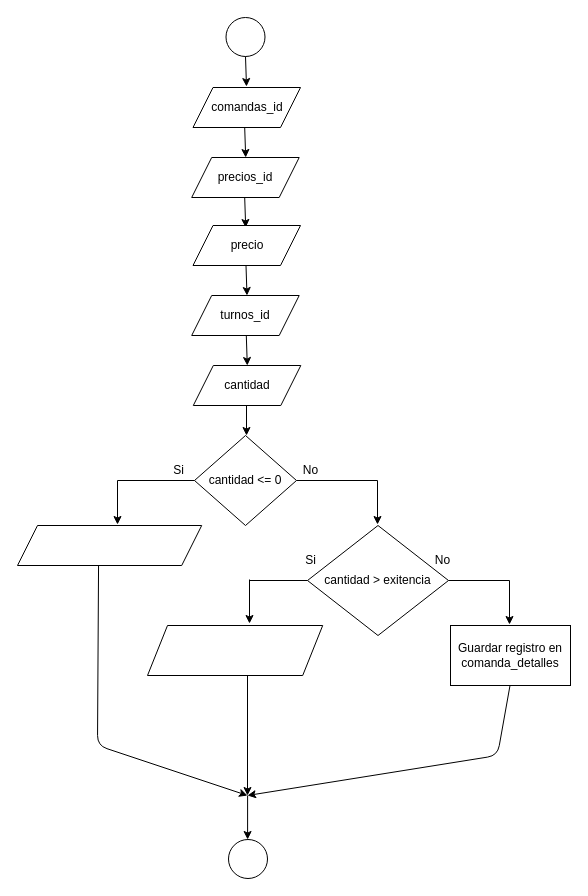
This 588x896 diagram has some shape labels left out. The shapes that lost their labels are listed below. From the top down, each one's centre as x and y in pixels, then its label:
At (x=245, y=36): "Inicio".
At (x=109, y=545): "Msj: ingrese un valor valido".
At (x=234, y=650): "Msj: la cantidad no debe superar la existencia".
At (x=248, y=858): "Fin".
